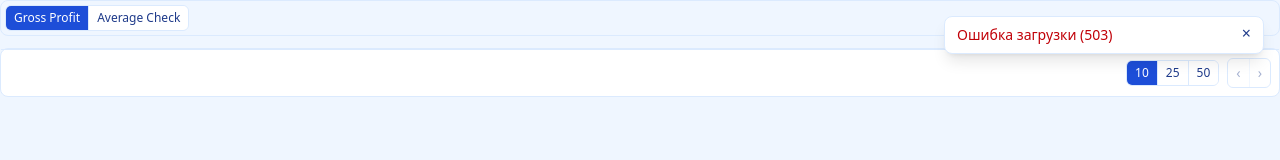
it: dashboard screen › shows a ranking error as a notice that can be closed
Expected: the message shows "Ошибка загрузки (503)", x1=957 y1=25 x2=1112 y2=44
Click the button named "Закрыть". click: (1246, 33)
box: x1=1242 y1=25 x2=1251 y2=41
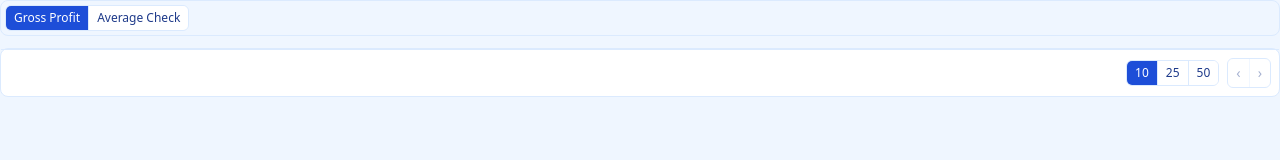
Expected: the message "Ошибка загрузки (503) ×" is gone
